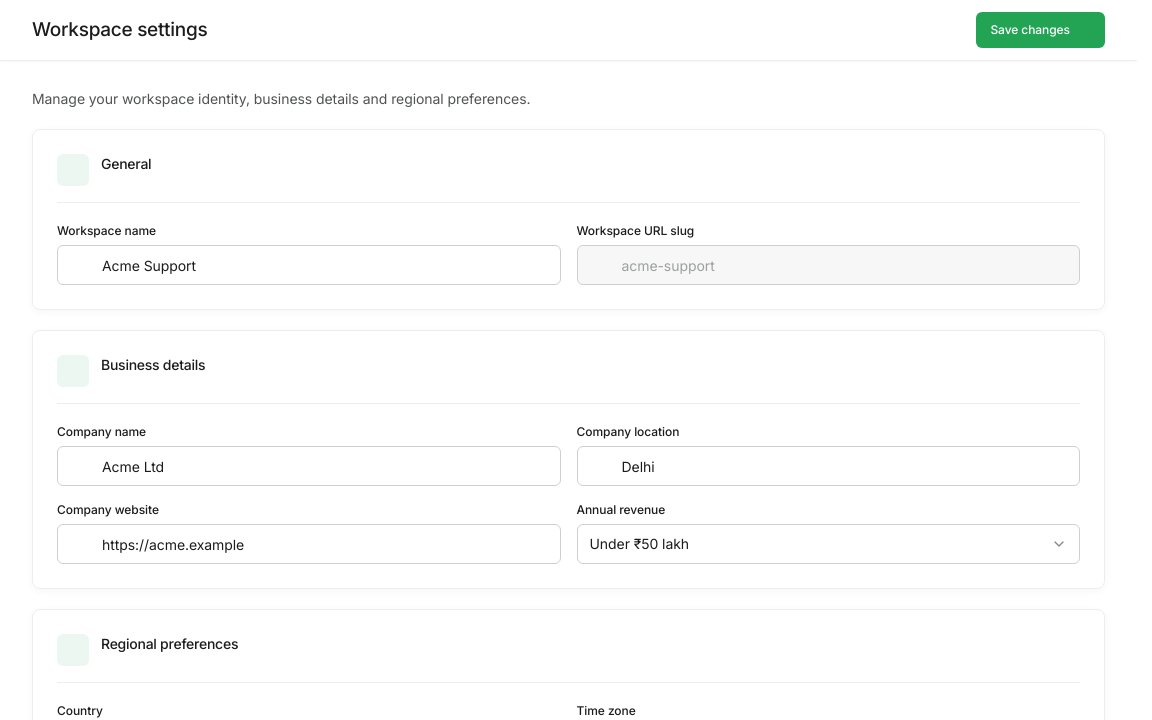
WorkspaceSettings › loads workspace details and saves edits for an administrator
Replace the text in the field labelled "Workspace name" with "Updated Support" at [309, 265], box [57,245,560,285]
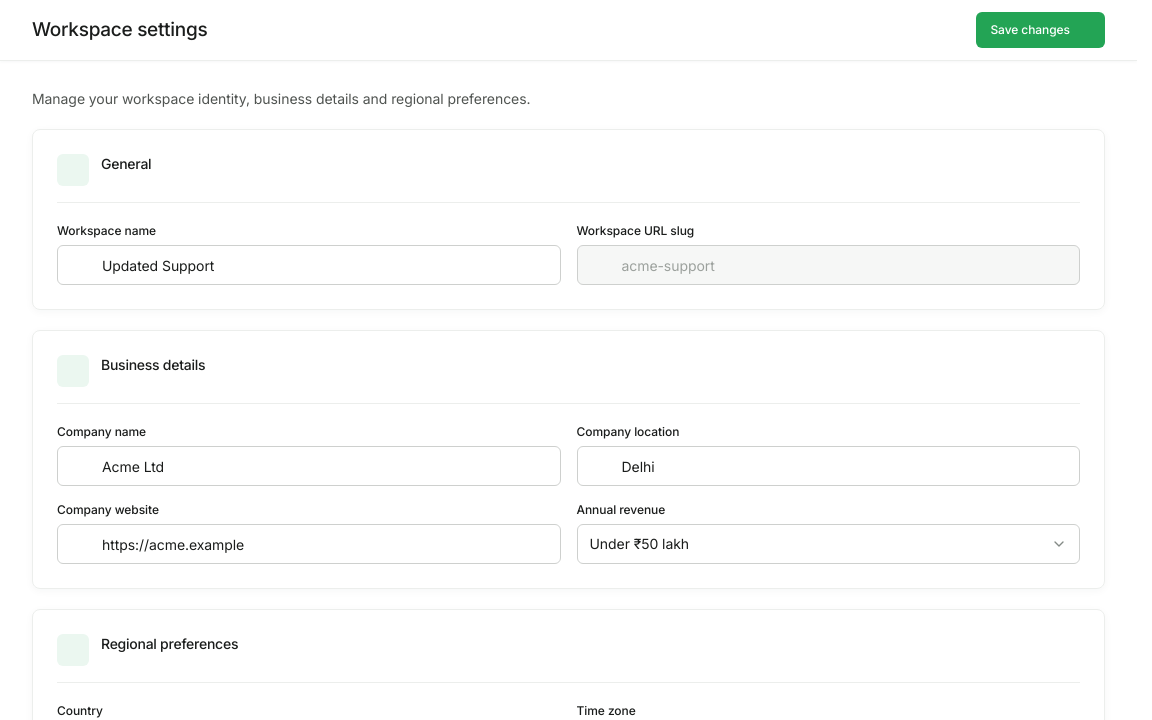
Click the button "Save changes" at [1041, 30], box [976,12,1105,48]
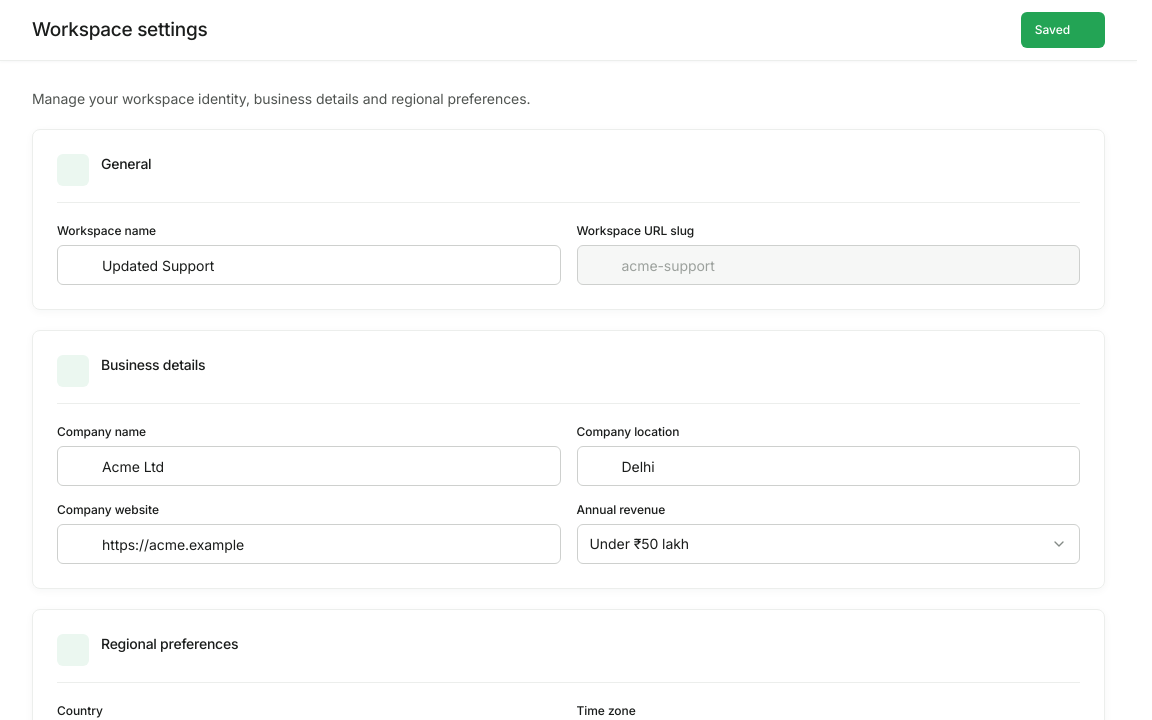
Expected: the button "Saved" is shown, [1021,12,1105,48]
